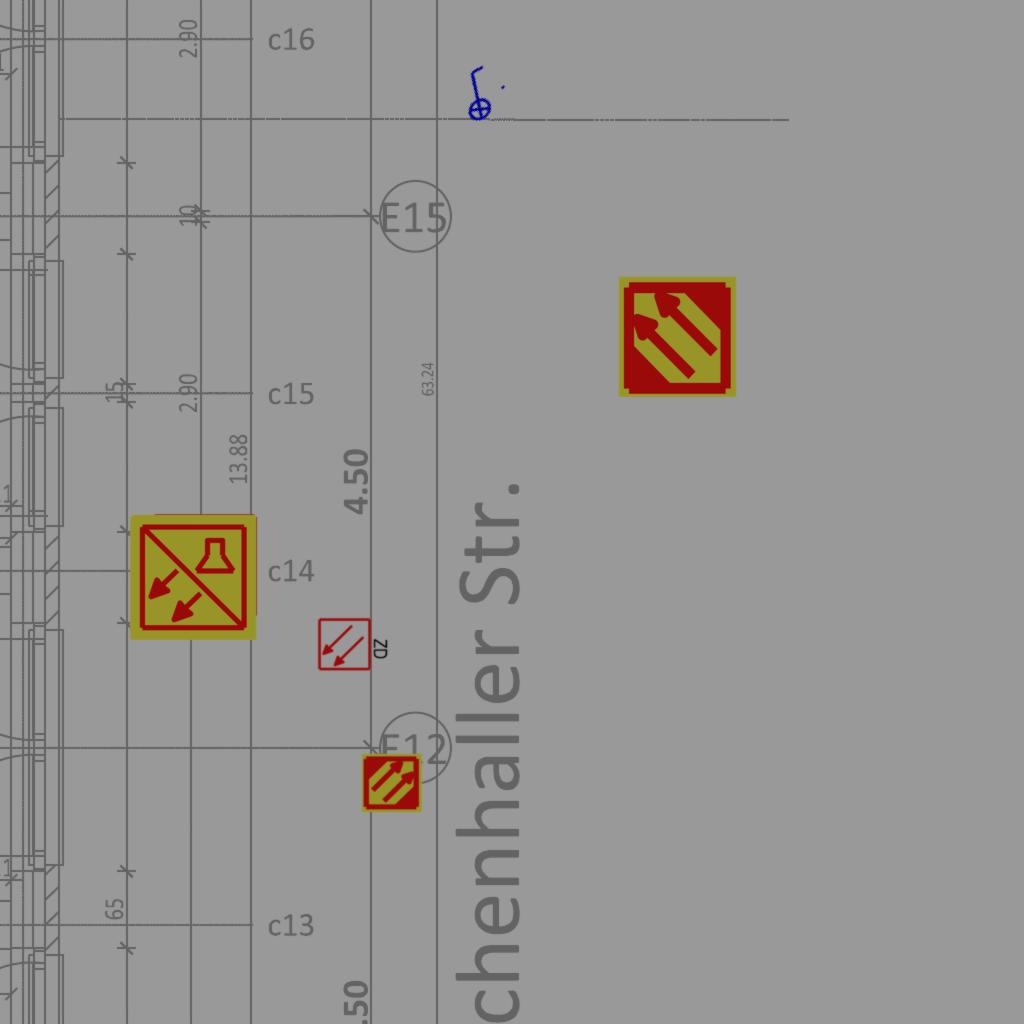ASR_Ansaugrauchmelder: (615, 274, 740, 399), (361, 752, 423, 814)
Ausschalter_beleuchtet: (440, 57, 514, 131)
OKW_Multisensormelder_(Kombination_optischer_Rauch-Kahlenmonoxid_Waerme-Melder): (127, 511, 259, 643)
ZD_Melder_in_Zwischendecke_mit_Revisionsoeffnung_mind_40_x_40_cm: (317, 615, 391, 672)
